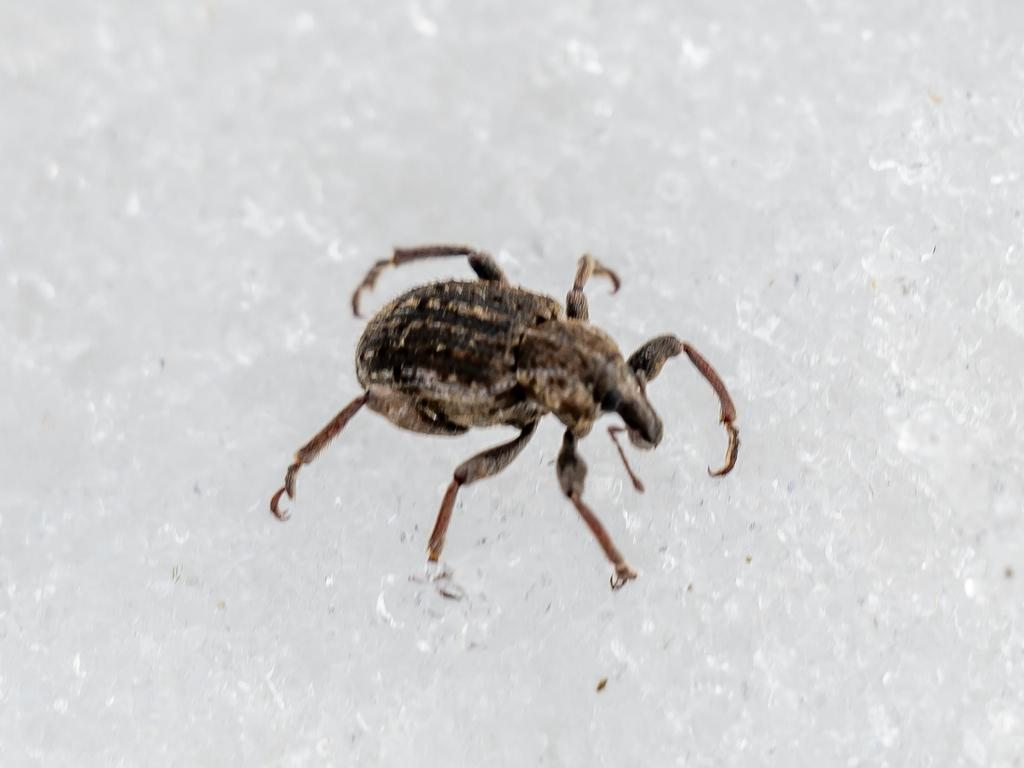weevils: (222, 174, 788, 668)
